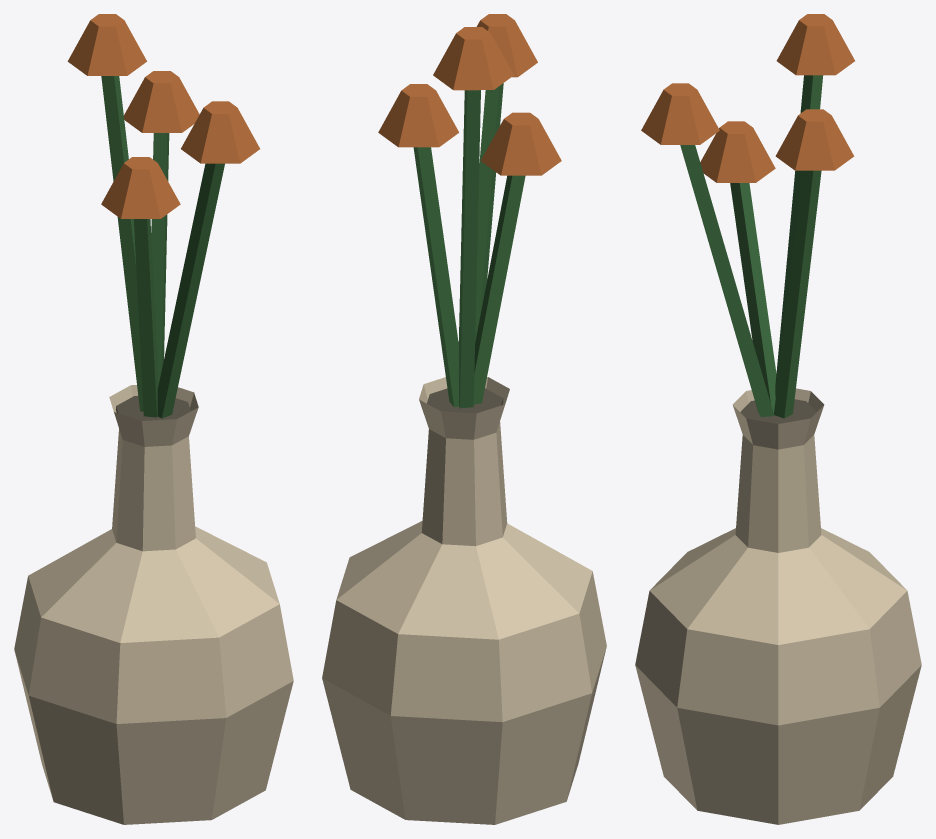
The model's file is vase-41.glb.
3 renders of one model, left to right at view 1: azimuth 30°, elevation 25°; view 2: azimuth 150°, elevation 25°; view 3: azimuth 270°, elevation 25°, orthographic. The views are drawn at different scales.
Parts seen in each view (by area): view 1: vase_41; view 2: vase_41; view 3: vase_41.
Part boxes in pixels (x1=…): vase_41: x1=14, y1=14, x2=293, y2=824; vase_41: x1=322, y1=14, x2=606, y2=824; vase_41: x1=635, y1=14, x2=921, y2=824.
Bounding box in the file's own units: 0.2542 × 0.7271 × 0.2542.
